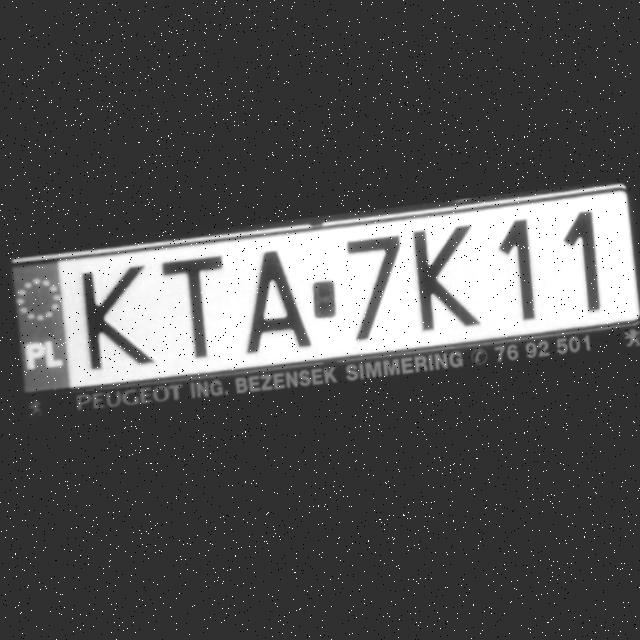license-plates: (11, 185, 640, 393)
